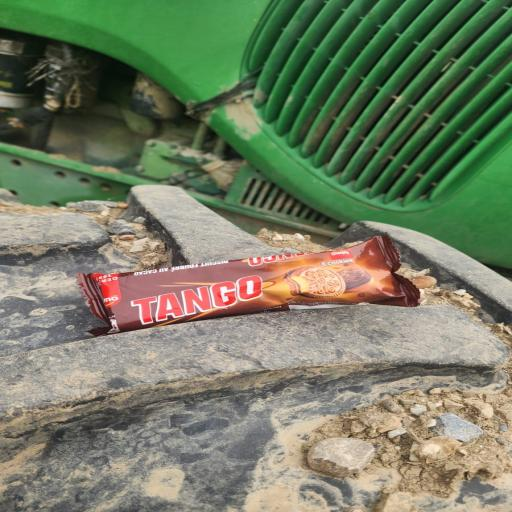tango: (71, 199, 434, 357)
